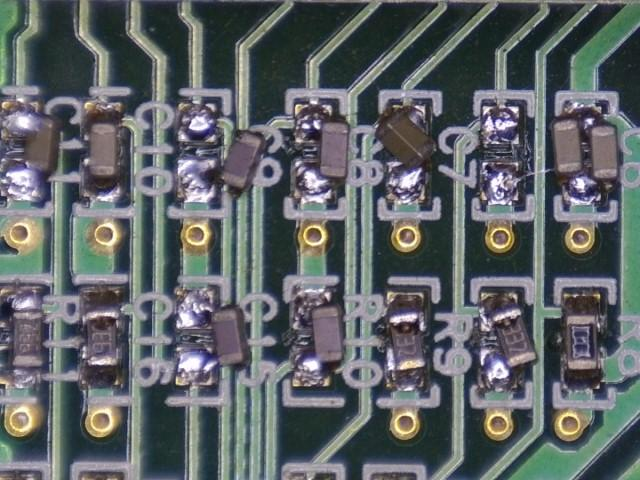Incorrect_installation: (177, 104, 267, 203), (176, 289, 252, 386), (552, 106, 620, 201), (1, 102, 63, 203), (375, 106, 439, 203), (292, 105, 351, 206), (480, 292, 538, 392), (292, 290, 346, 388), (1, 286, 44, 389), (386, 291, 429, 390)
